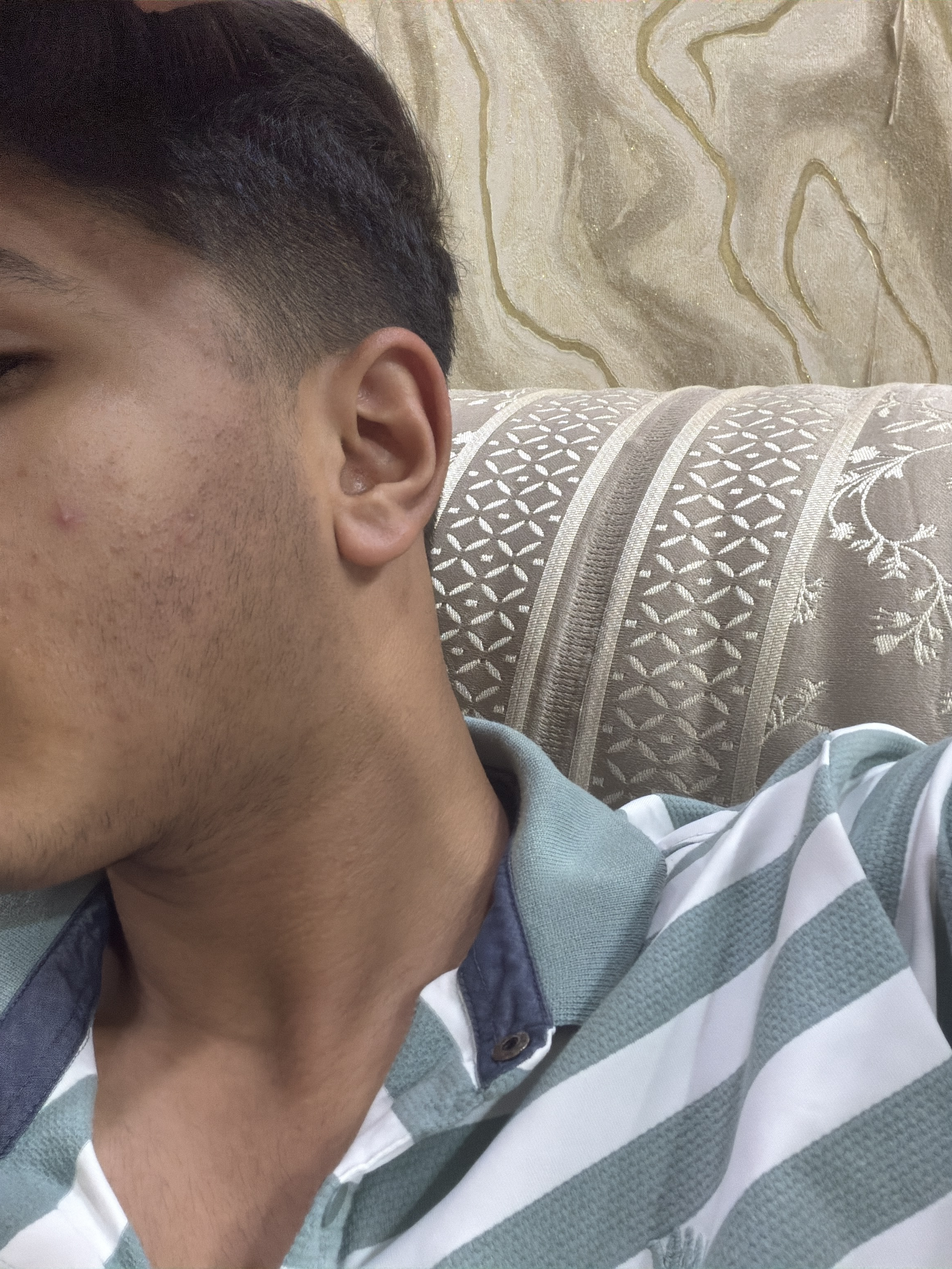papule: (58, 510, 75, 527)
